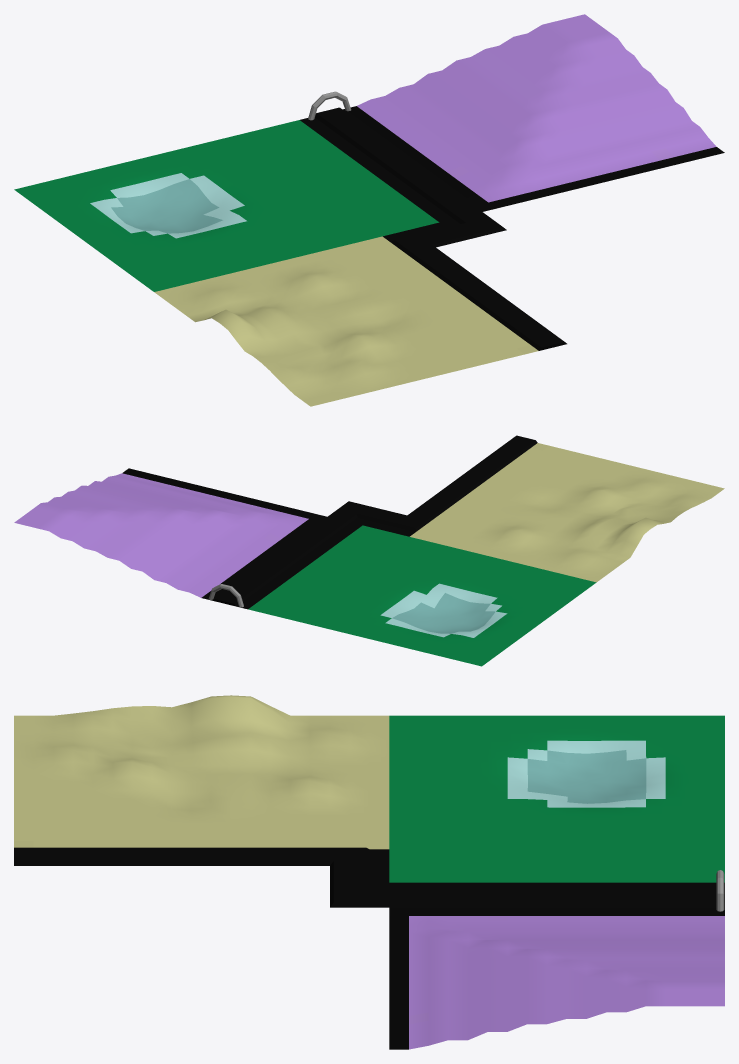
Rendered from TestMap.fbx.
3 views of the same model, one above another, from view 1: azimuth 30°, elevation 25°; view 2: azimuth 150°, elevation 25°; view 3: azimuth 270°, elevation 25° (orthographic). The views are drawn at different scales.
Parts seen in each view (by area): view 1: pPlane2; view 2: pPlane2; view 3: pPlane2.
Boxes of the visible parts, bbox=[...] form: pPlane2: bbox=[14, 14, 724, 406]; pPlane2: bbox=[14, 435, 724, 666]; pPlane2: bbox=[14, 695, 724, 1049].
Size of the model in its own units: 90 by 6.82 by 81.
